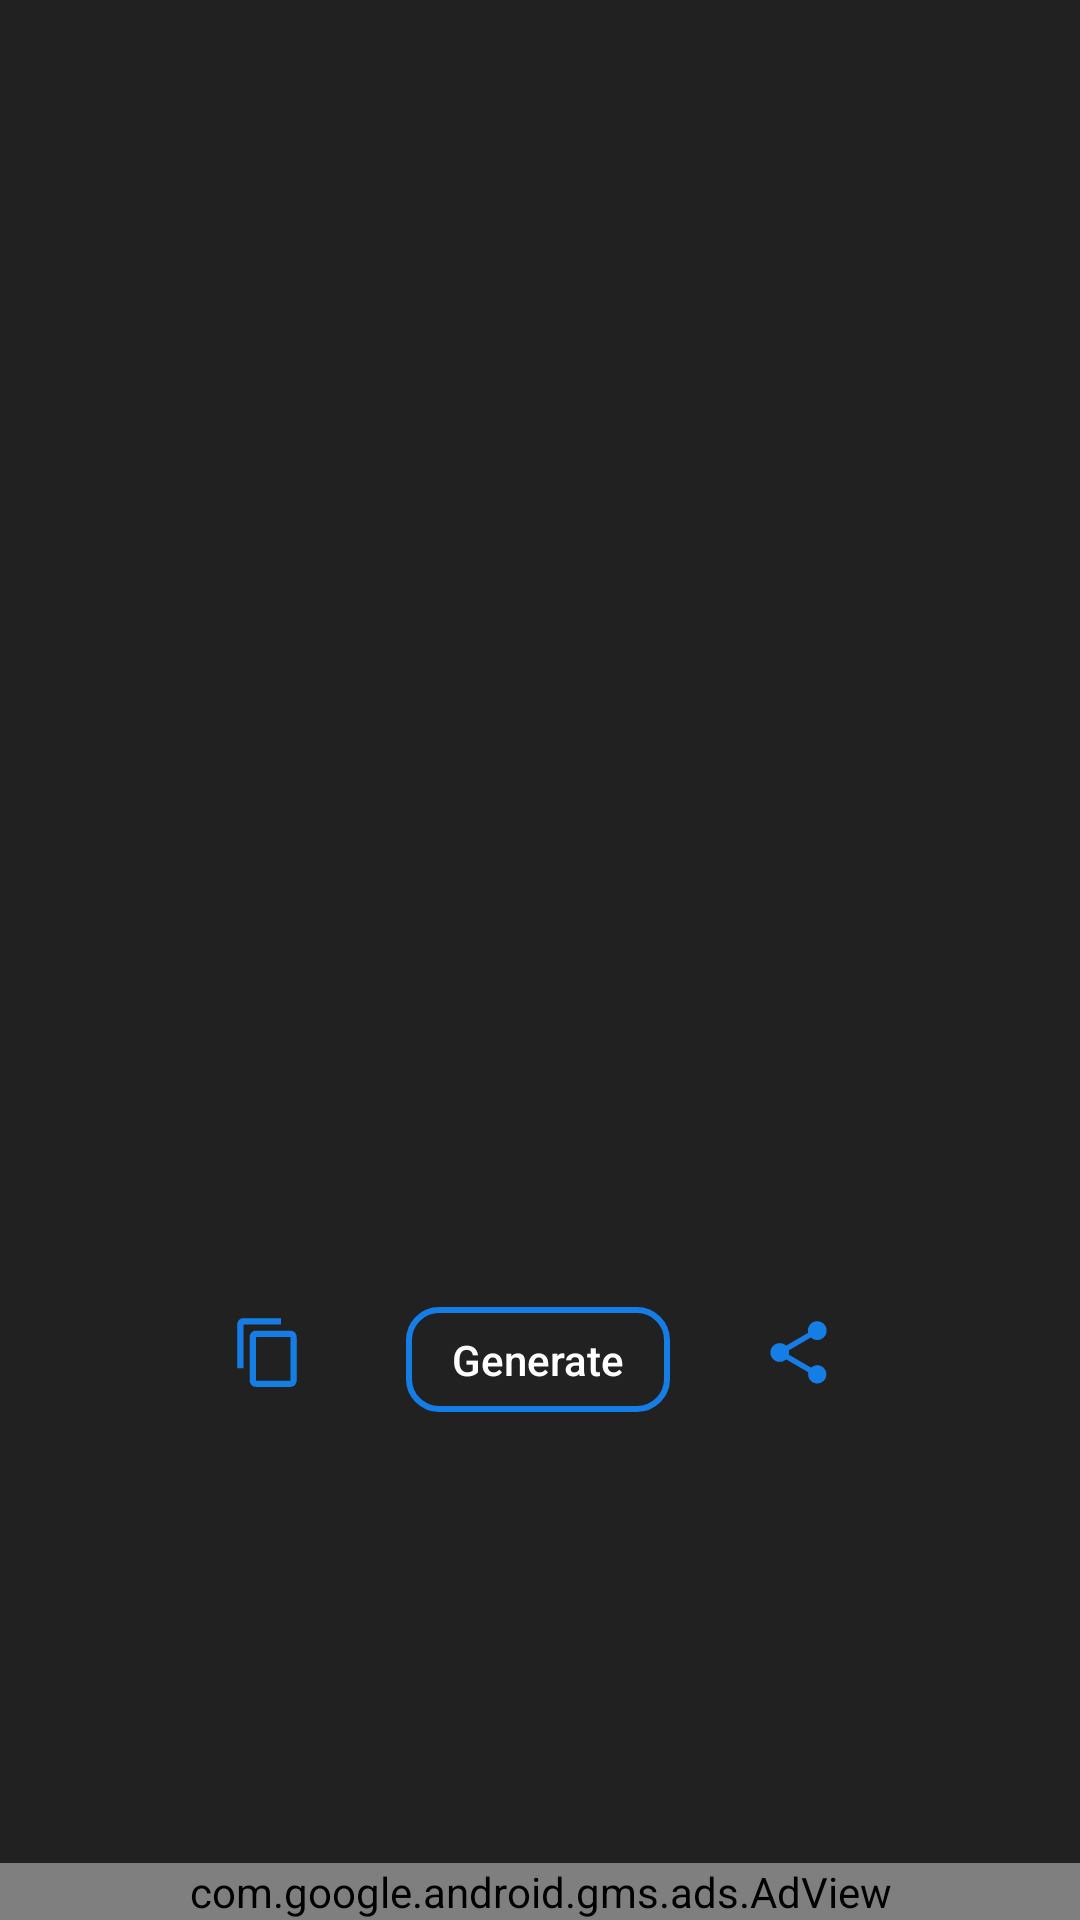

Screen size 1080px×1920px. Icon name, then its center in pixels as [x,y]:
share: [798,1352]
